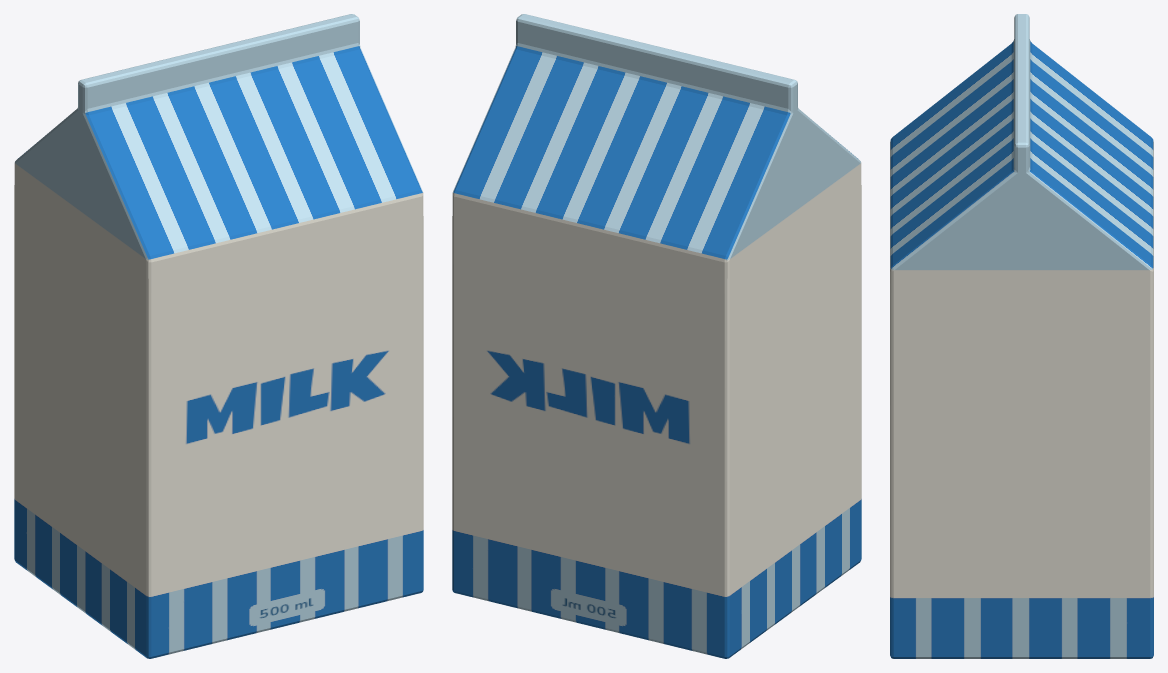
Rendered from Milk_Carton_Stripe.glb.
3 renders of one model, left to right at view 1: azimuth 30°, elevation 25°; view 2: azimuth 150°, elevation 25°; view 3: azimuth 270°, elevation 25°, orthographic. The views are drawn at different scales.
Parts seen in each view (by area): view 1: Milk_Carton_Stripe; view 2: Milk_Carton_Stripe; view 3: Milk_Carton_Stripe.
Part boxes in pixels (x1=…): Milk_Carton_Stripe: x1=14, y1=14, x2=423, y2=658; Milk_Carton_Stripe: x1=452, y1=14, x2=861, y2=658; Milk_Carton_Stripe: x1=890, y1=14, x2=1153, y2=658.
Bounding box in the file's own units: 0.1095 × 0.2 × 0.0926.
1 material, 1 textured.
